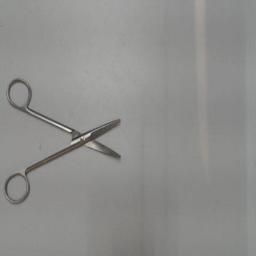Curved Mayo Scissors: (2, 74, 126, 210)
